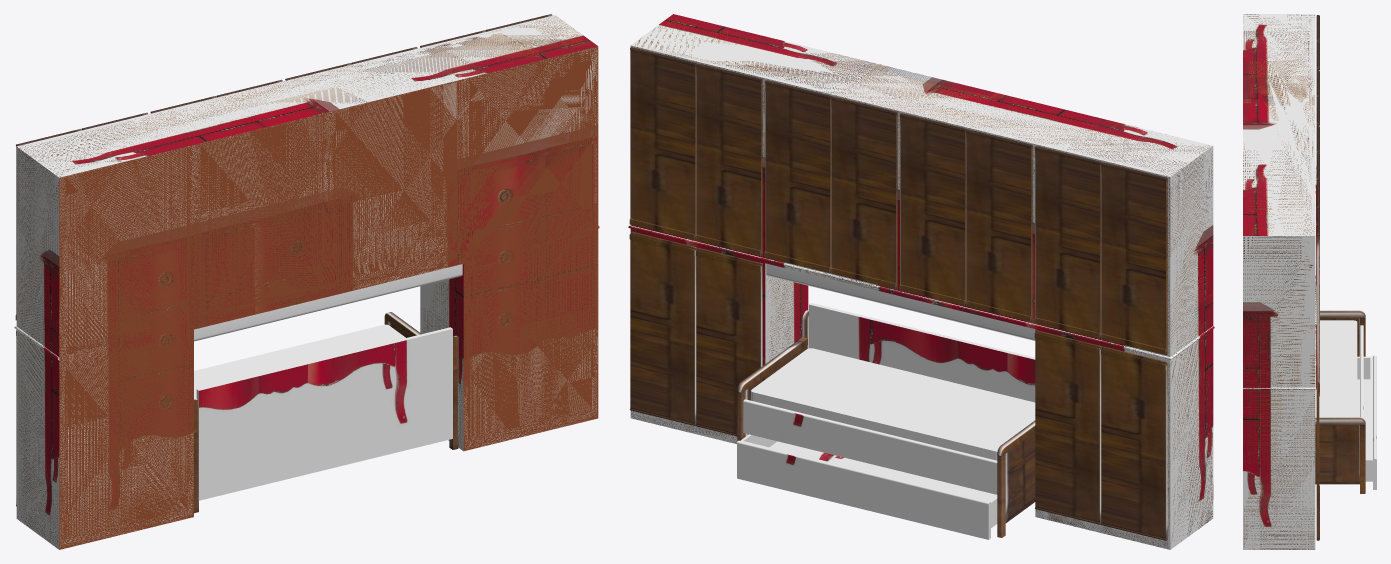
3 views of the same model, side by side, from view 1: azimuth 30°, elevation 25°; view 2: azimuth 150°, elevation 25°; view 3: azimuth 270°, elevation 25° (orthographic). The views are drawn at different scales.
Parts seen in each view (by area): view 1: mesh1_mesh1-geometry, mesh86_mesh86-geometry, mesh72_mesh72-geometry, mesh28_mesh28-geometry, mesh90_mesh90-geometry; view 2: mesh1_mesh1-geometry, mesh72_mesh72-geometry, mesh84_mesh84-geometry, mesh44_mesh44-geometry, mesh51_mesh51-geometry, mesh62_mesh62-geometry, mesh32_mesh32-geometry, mesh66_mesh66-geometry, mesh41_mesh41-geometry, mesh59_mesh59-geometry, mesh69_mesh69-geometry, mesh35_mesh35-geometry (+9 smaller); view 3: mesh1_mesh1-geometry, mesh72_mesh72-geometry, mesh94_mesh94-geometry, mesh84_mesh84-geometry, mesh35_mesh35-geometry, mesh44_mesh44-geometry, mesh96_mesh96-geometry, mesh77_mesh77-geometry, mesh92_mesh92-geometry, mesh88_mesh88-geometry, mesh79_mesh79-geometry.
Boxes of the visible parts, x1,y1,x2,y2 form: mesh1_mesh1-geometry: (14, 15, 599, 549); mesh86_mesh86-geometry: (196, 327, 452, 500); mesh72_mesh72-geometry: (194, 324, 405, 399); mesh28_mesh28-geometry: (194, 264, 462, 341); mesh90_mesh90-geometry: (449, 335, 458, 449); mesh1_mesh1-geometry: (628, 14, 1214, 549); mesh72_mesh72-geometry: (751, 348, 1035, 460); mesh84_mesh84-geometry: (737, 434, 997, 539); mesh44_mesh44-geometry: (629, 231, 696, 425); mesh51_mesh51-geometry: (1101, 346, 1167, 540); mesh62_mesh62-geometry: (1034, 330, 1101, 524); mesh32_mesh32-geometry: (966, 129, 1032, 322); mesh66_mesh66-geometry: (831, 96, 897, 289); mesh41_mesh41-geometry: (1101, 162, 1167, 355); mesh59_mesh59-geometry: (764, 80, 831, 273); mesh69_mesh69-geometry: (696, 63, 762, 256); mesh35_mesh35-geometry: (629, 47, 696, 240); mesh1_mesh1-geometry: (1243, 14, 1316, 549); mesh72_mesh72-geometry: (1315, 320, 1357, 416); mesh94_mesh94-geometry: (1315, 425, 1359, 484); mesh84_mesh84-geometry: (1357, 355, 1376, 489); mesh35_mesh35-geometry: (1316, 208, 1319, 384); mesh44_mesh44-geometry: (1316, 382, 1319, 540); mesh96_mesh96-geometry: (1360, 425, 1365, 493); mesh77_mesh77-geometry: (1320, 310, 1365, 318); mesh92_mesh92-geometry: (1315, 417, 1365, 424); mesh88_mesh88-geometry: (1360, 325, 1363, 418); mesh79_mesh79-geometry: (1320, 318, 1359, 356).
Bounding box in the file's own units: 0.8177 × 0.537 × 0.2075.
